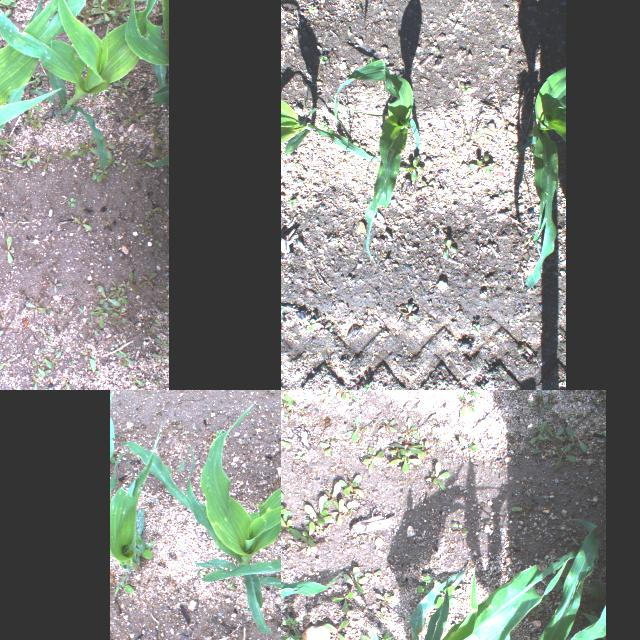crop: (0, 0, 168, 177), (151, 406, 281, 568), (365, 548, 584, 640), (192, 390, 281, 588), (334, 58, 420, 262), (0, 0, 88, 191), (494, 517, 605, 640), (513, 64, 565, 286), (281, 88, 379, 195), (110, 423, 162, 573), (123, 0, 168, 104), (281, 570, 343, 609), (243, 576, 269, 636), (122, 442, 146, 462), (144, 152, 168, 168), (110, 414, 116, 462)
weed: (545, 561, 605, 599), (386, 448, 422, 472), (342, 566, 368, 594), (434, 580, 458, 608), (303, 492, 327, 520), (468, 152, 492, 178), (336, 474, 364, 496), (90, 0, 120, 20), (136, 536, 160, 560), (402, 156, 424, 182), (566, 426, 588, 452), (345, 414, 365, 442), (322, 480, 340, 510), (362, 446, 382, 472), (430, 462, 450, 488), (556, 444, 576, 470), (324, 619, 348, 640), (98, 284, 120, 306), (281, 514, 301, 538), (542, 422, 566, 442), (458, 393, 476, 419), (85, 302, 105, 324), (397, 303, 419, 323), (332, 590, 352, 612), (529, 420, 549, 442), (330, 499, 346, 525), (0, 234, 14, 263), (15, 148, 40, 164), (78, 136, 98, 156), (528, 390, 549, 409), (401, 416, 419, 438), (97, 158, 113, 182), (112, 308, 128, 332), (442, 237, 458, 260), (281, 391, 294, 419), (126, 106, 146, 124), (388, 442, 422, 452), (302, 520, 314, 548), (114, 350, 134, 366), (316, 390, 337, 405), (458, 436, 480, 450), (82, 16, 101, 32), (417, 438, 433, 457), (113, 0, 128, 20), (120, 579, 136, 597), (318, 438, 334, 456), (25, 302, 45, 316), (88, 160, 102, 180), (416, 574, 430, 594), (304, 514, 318, 534), (281, 509, 290, 540), (96, 305, 108, 327), (298, 533, 310, 555), (316, 508, 332, 524), (281, 628, 302, 640), (282, 616, 300, 630), (126, 272, 138, 292), (374, 592, 394, 604), (74, 217, 92, 230), (140, 272, 156, 286), (116, 288, 130, 304), (48, 276, 62, 292), (108, 136, 124, 150), (302, 318, 318, 332), (452, 521, 470, 533), (31, 360, 44, 376), (144, 207, 160, 220), (58, 149, 78, 159), (338, 390, 358, 400), (81, 0, 99, 11), (398, 432, 416, 443), (78, 10, 92, 24), (382, 418, 396, 432), (128, 373, 144, 385), (87, 359, 99, 375), (344, 502, 360, 514), (51, 351, 61, 369), (152, 127, 162, 145), (281, 427, 290, 447), (23, 108, 34, 124), (348, 374, 359, 390), (82, 347, 96, 359), (152, 352, 168, 362), (42, 154, 52, 170), (114, 79, 130, 89), (421, 180, 437, 190), (390, 448, 406, 458), (0, 355, 12, 368), (29, 377, 41, 390), (380, 628, 393, 640), (0, 142, 9, 159), (150, 373, 162, 385), (40, 328, 52, 340), (150, 314, 162, 326), (4, 134, 16, 146), (32, 114, 44, 126), (106, 11, 118, 23), (459, 82, 471, 94), (532, 602, 544, 614), (314, 522, 326, 534), (154, 338, 168, 348), (110, 280, 124, 290), (102, 298, 116, 308), (510, 504, 530, 511), (364, 568, 381, 576), (459, 390, 480, 396), (142, 223, 152, 235), (0, 9, 10, 21), (30, 120, 42, 130), (30, 69, 40, 81), (95, 0, 107, 10), (471, 321, 481, 333), (376, 606, 386, 618), (154, 148, 168, 156), (146, 105, 156, 116), (294, 449, 306, 458), (114, 344, 124, 354), (42, 358, 52, 368), (118, 88, 128, 98), (359, 633, 373, 640), (35, 370, 51, 376), (62, 377, 70, 389), (1, 166, 13, 174), (134, 156, 146, 164), (152, 8, 164, 16), (522, 483, 530, 495), (298, 408, 308, 417), (112, 156, 120, 167), (361, 383, 373, 390), (322, 528, 328, 542), (12, 220, 22, 228), (31, 83, 41, 91), (512, 88, 522, 96), (307, 3, 317, 11), (286, 198, 296, 206), (530, 449, 548, 453), (287, 406, 293, 418), (68, 198, 76, 206), (122, 137, 130, 145), (30, 78, 38, 86), (135, 82, 143, 90), (416, 440, 424, 448), (334, 390, 341, 399), (147, 284, 157, 290), (281, 505, 286, 517), (319, 55, 326, 63), (329, 633, 337, 640), (105, 306, 118, 310), (0, 136, 5, 146), (155, 240, 163, 246), (132, 0, 148, 3), (434, 46, 440, 54), (22, 164, 28, 170), (122, 165, 128, 171), (107, 112, 113, 116), (346, 27, 350, 33), (598, 390, 605, 393), (83, 197, 87, 201), (105, 221, 109, 225), (96, 107, 104, 109)
